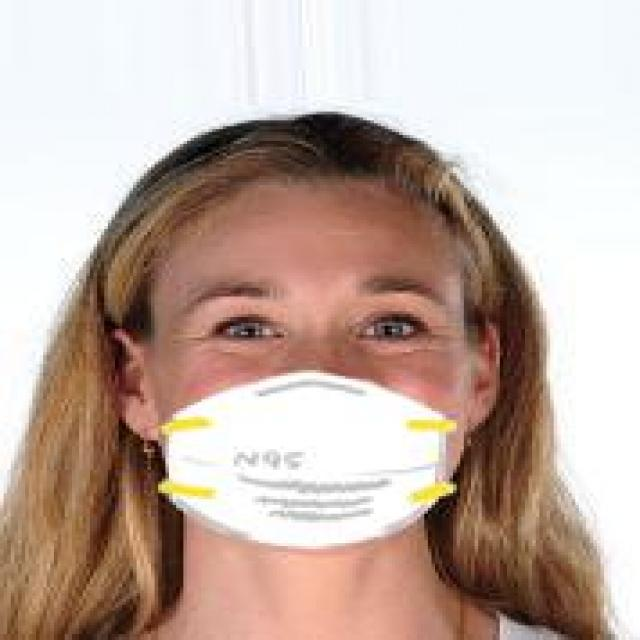mask: (72, 74, 597, 576)
